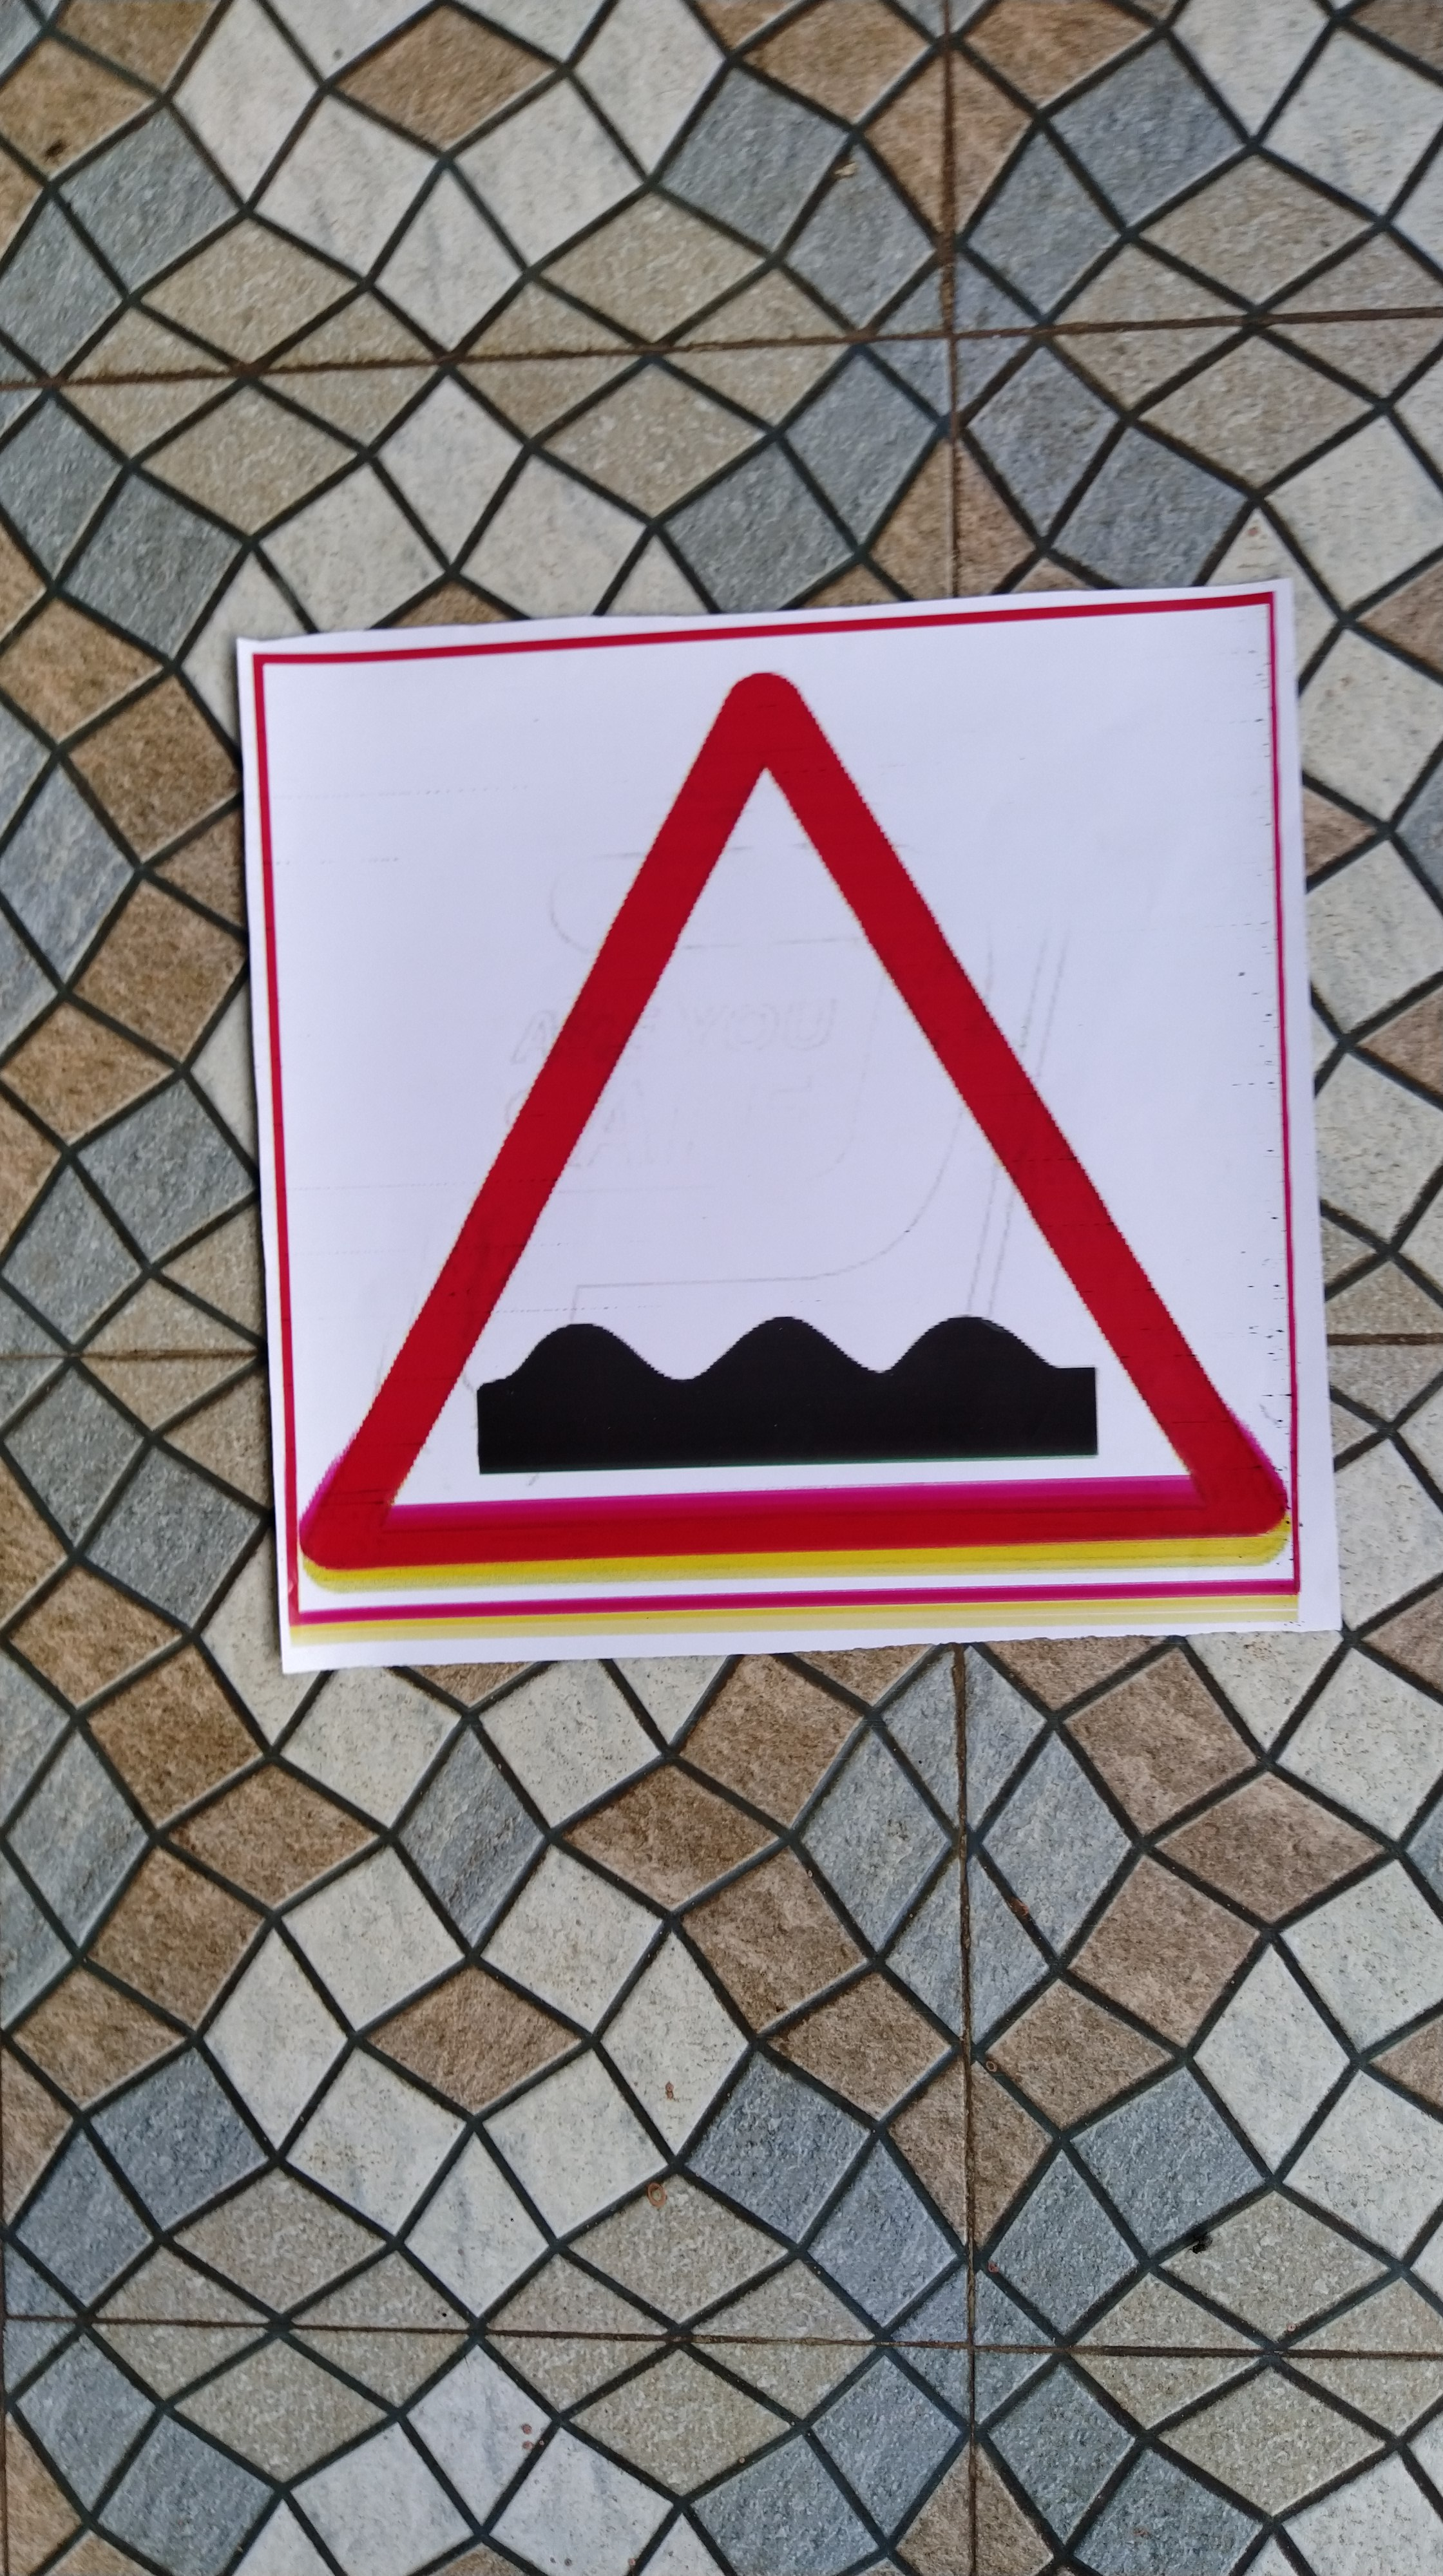speed breaker: (244, 646, 1323, 1637), (248, 674, 1310, 1624)
